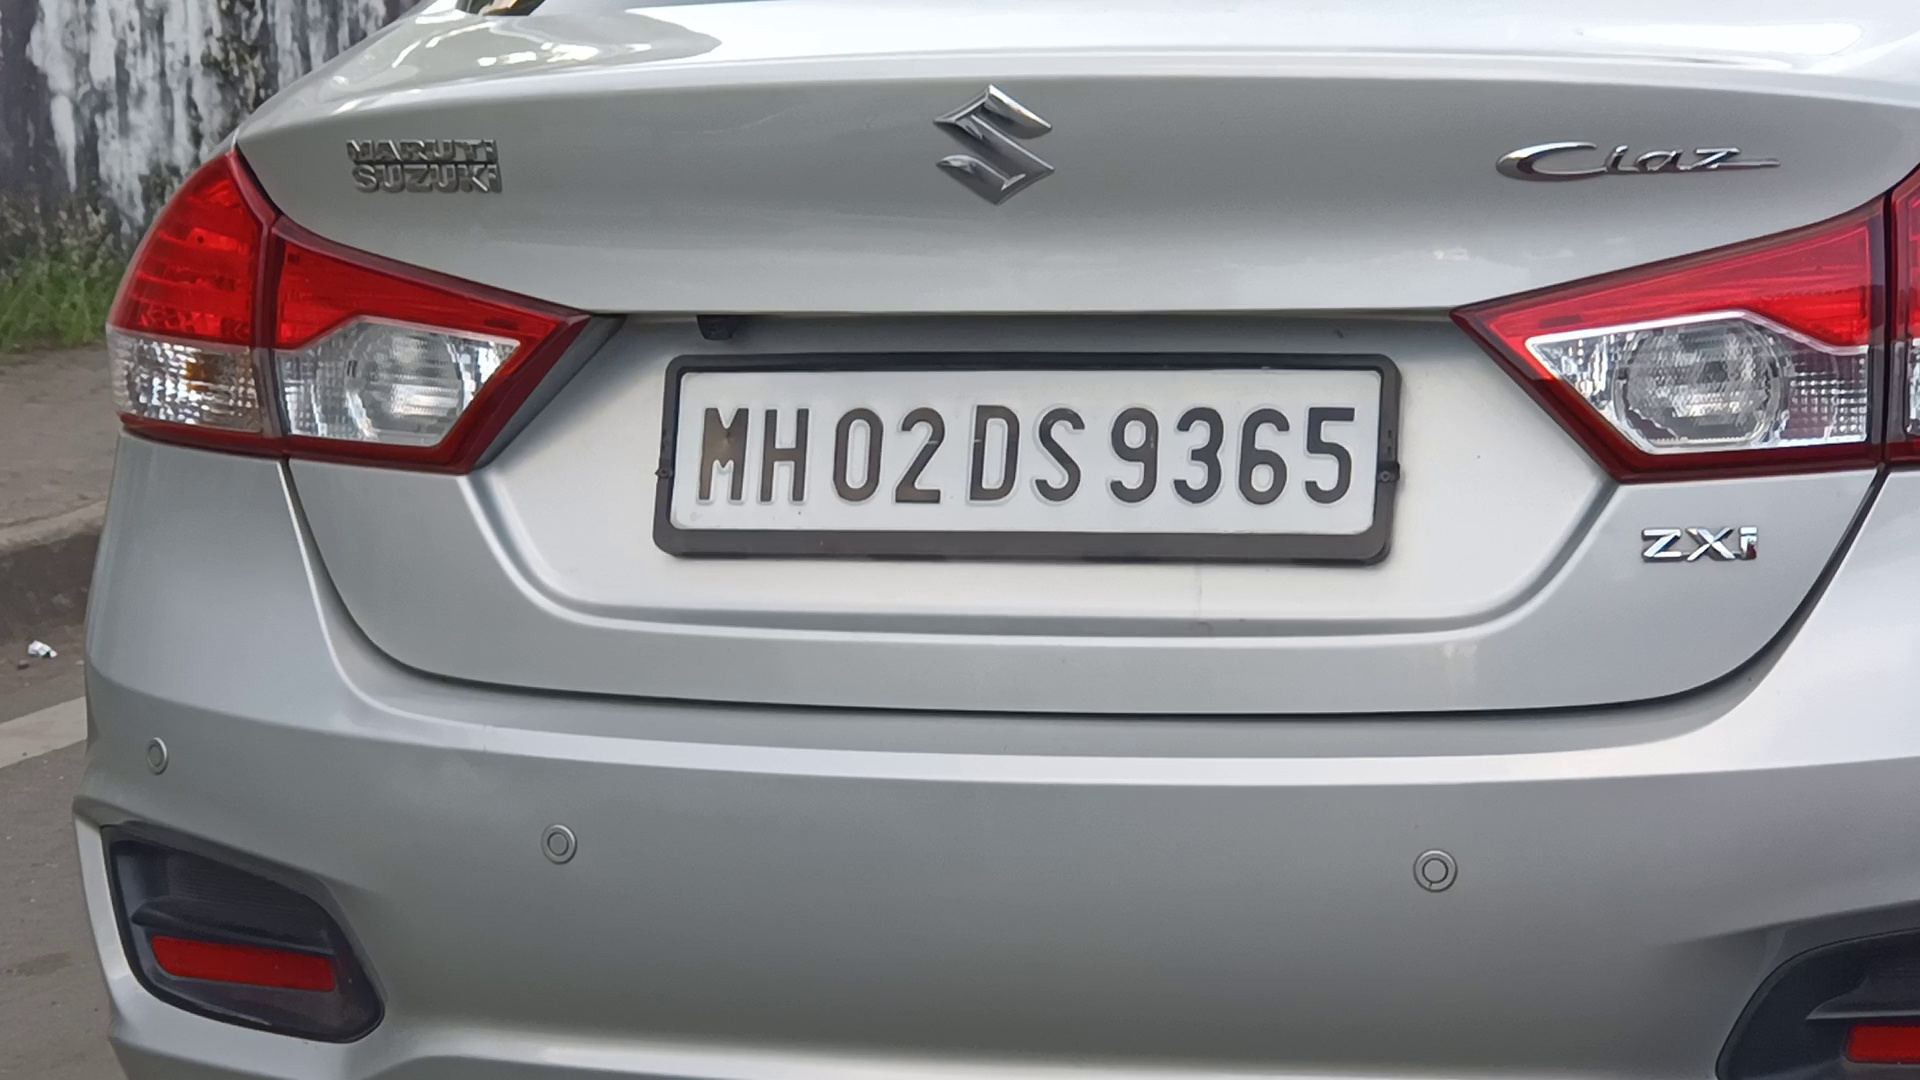MH02DS9365: (670, 369, 1378, 536)
